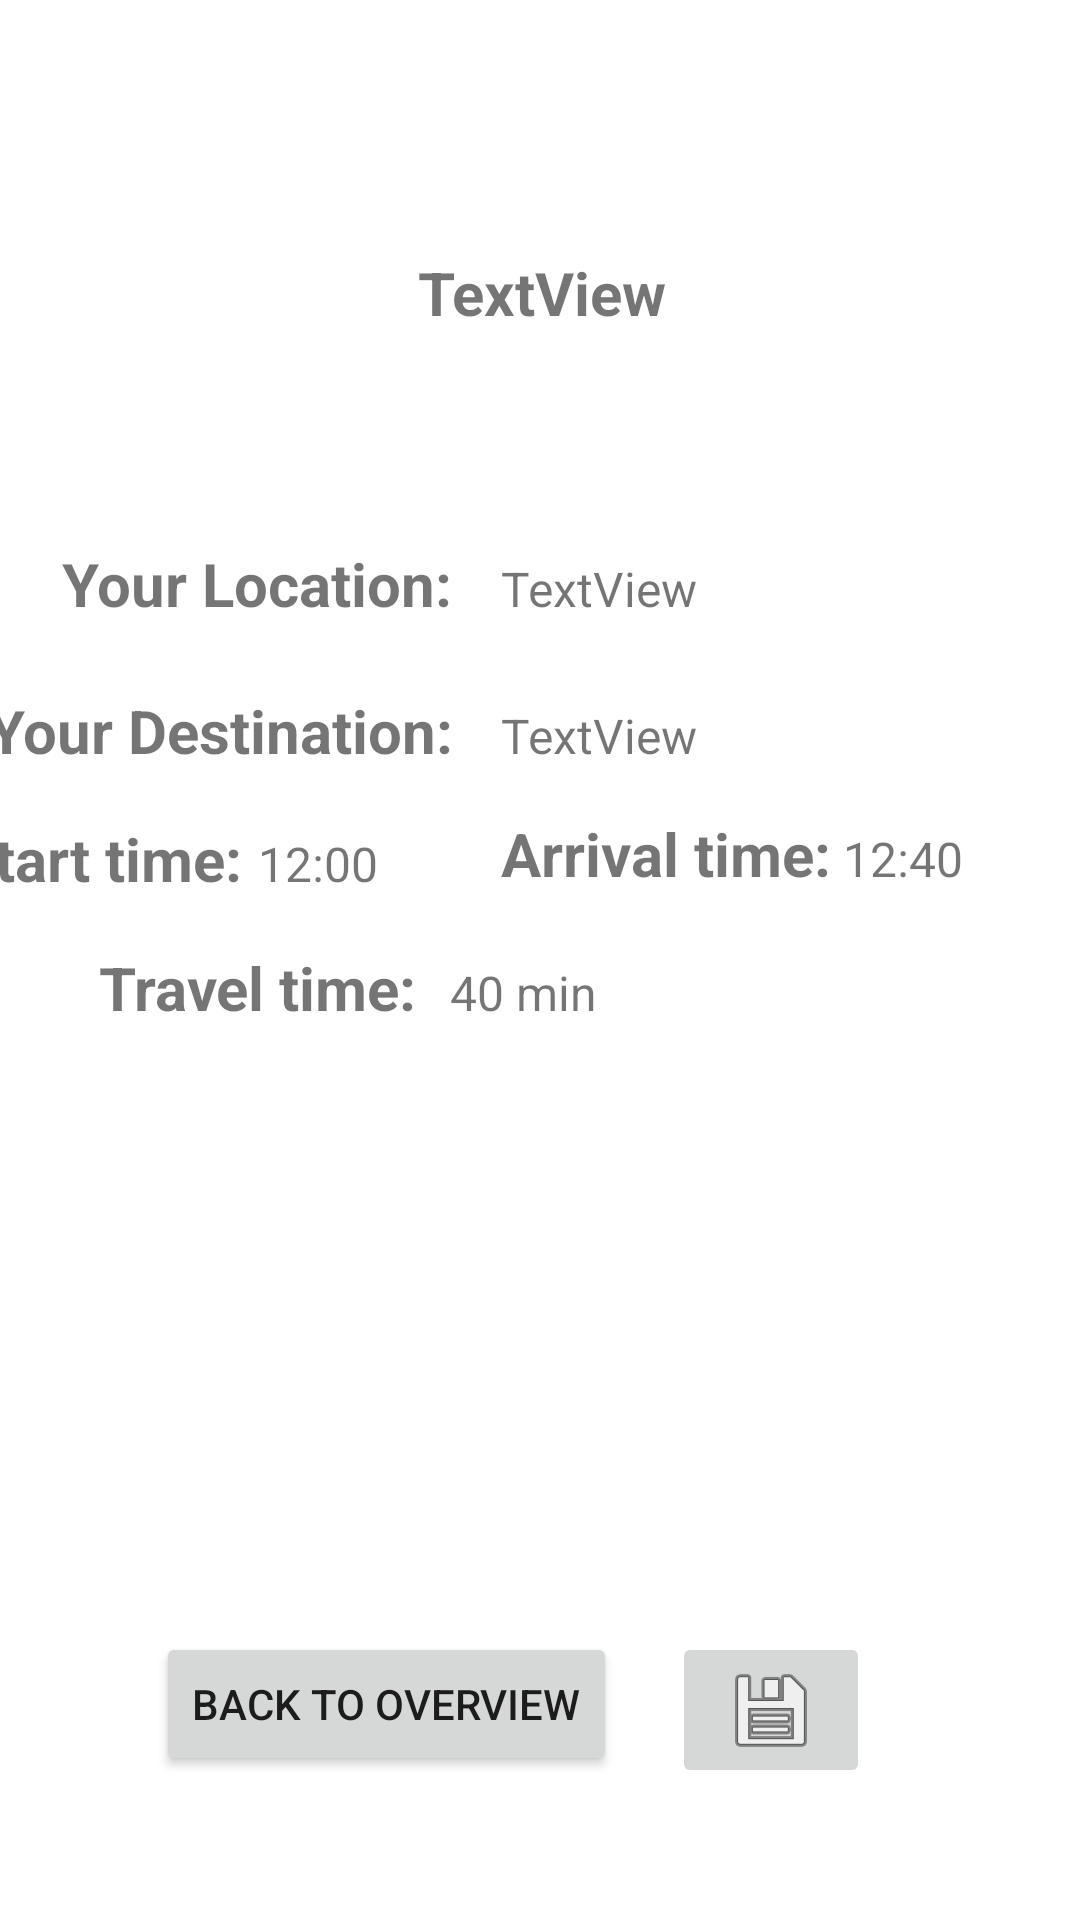

Locate icon controls on the screen. Image size 1080*1920, boxes as (left=x1, top=y1, right=x2, bottom=y2).
save: (left=684, top=1650, right=858, bottom=1770)
